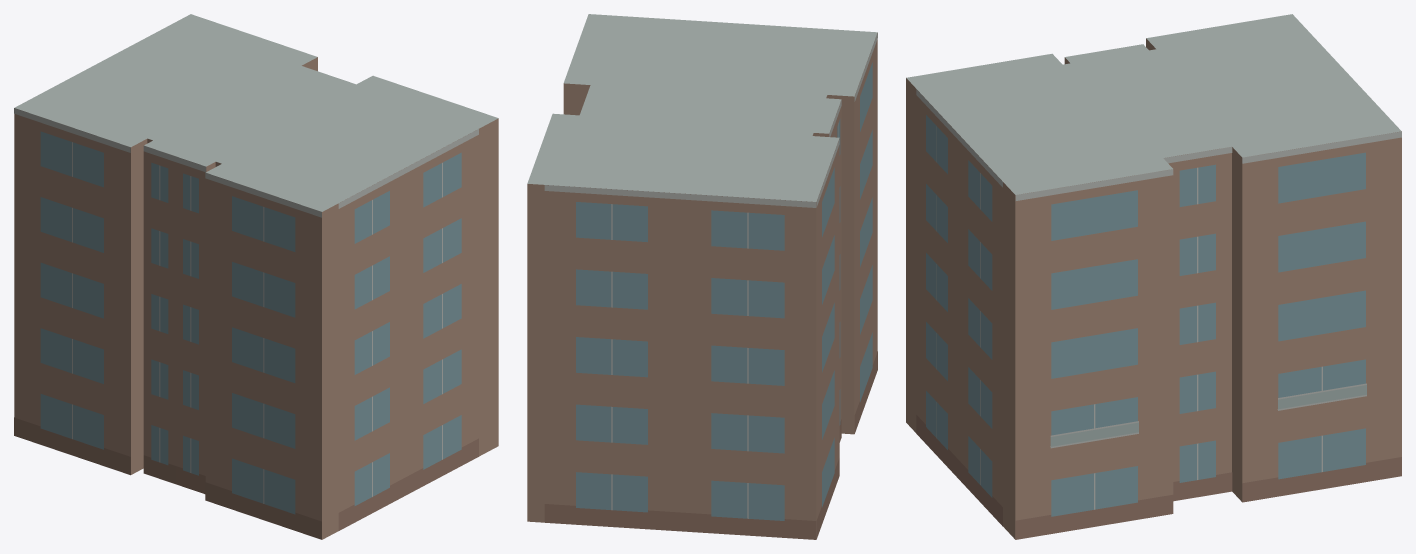
The model's file is survey-upis-32847314.glb.
3 renders of one model, left to right at view 1: azimuth 30°, elevation 25°; view 2: azimuth 150°, elevation 25°; view 3: azimuth 270°, elevation 25°, orthographic. The views are drawn at different scales.
Parts seen in each view (by area): view 1: survey-upis-32847314.tmp; view 2: survey-upis-32847314.tmp; view 3: survey-upis-32847314.tmp.
Boxes of the visible parts, bbox=[...] form: survey-upis-32847314.tmp: bbox=[14, 14, 498, 539]; survey-upis-32847314.tmp: bbox=[527, 14, 877, 539]; survey-upis-32847314.tmp: bbox=[906, 14, 1401, 539].
Bounding box in the file's own units: 15.44 × 13.7 × 17.85.
